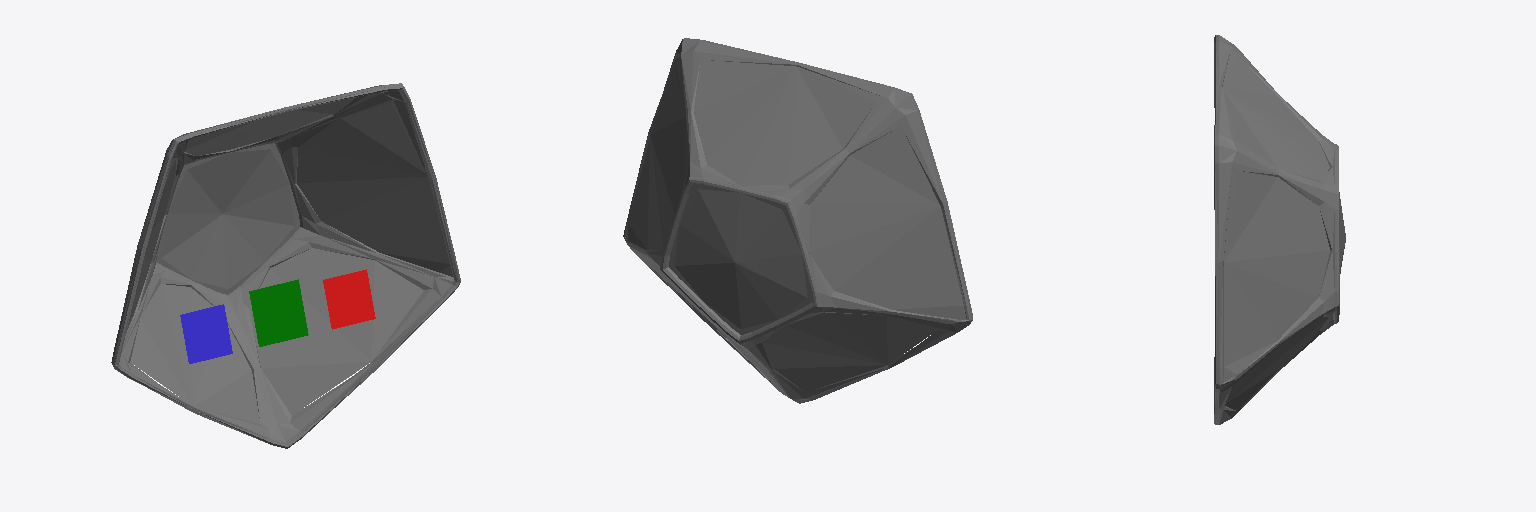
The model's file is hud_octopit.obj.
3 views of the same model, side by side, from view 1: azimuth 30°, elevation 25°; view 2: azimuth 150°, elevation 25°; view 3: azimuth 270°, elevation 25° (orthographic).
Visible parts, largest first — view 1: polySurface74; view 2: polySurface74; view 3: polySurface74.
Boxes of the visible parts, <box> form: polySurface74: <box>111,83,460,448</box>; polySurface74: <box>623,38,972,403</box>; polySurface74: <box>1214,35,1345,424</box>.
Bounding box in the file's own units: 8.02 × 7.5 × 2.65.